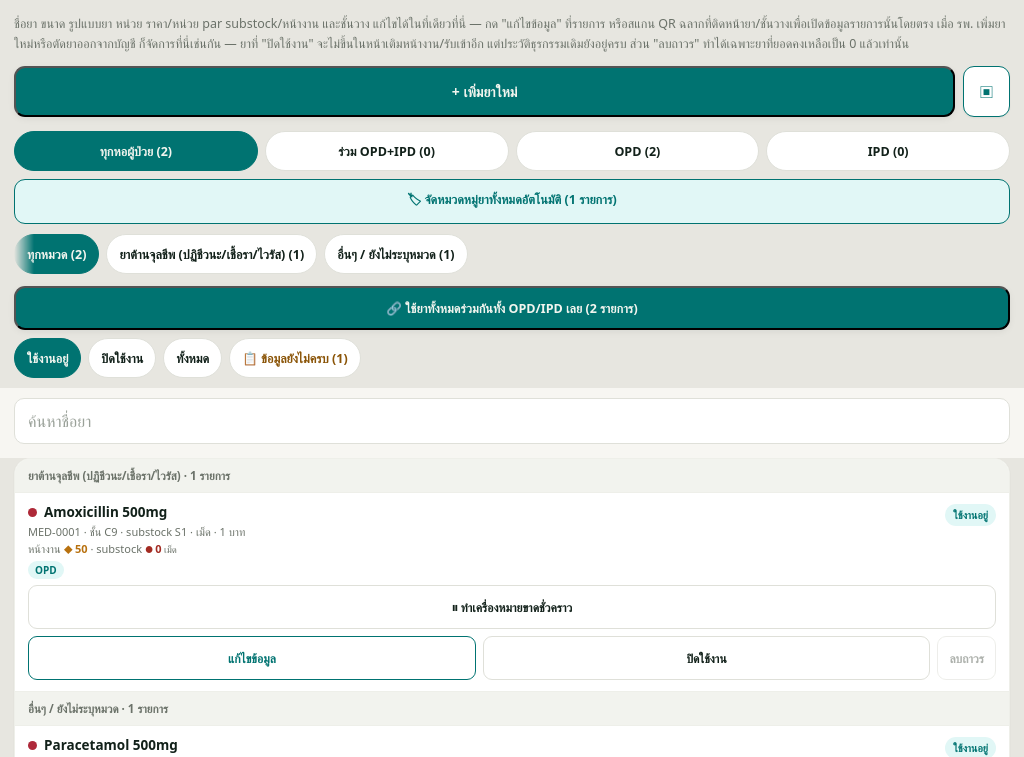
Scenario: setMedBin — bin-collision warning regression › warns (but still saves) when the quick-fix row's typed bin code already belongs to another active med
Click the button "📋 ข้อมูลยังไม่ครบ (1)": (295, 358) [229, 338, 361, 378]
(page scrolled)
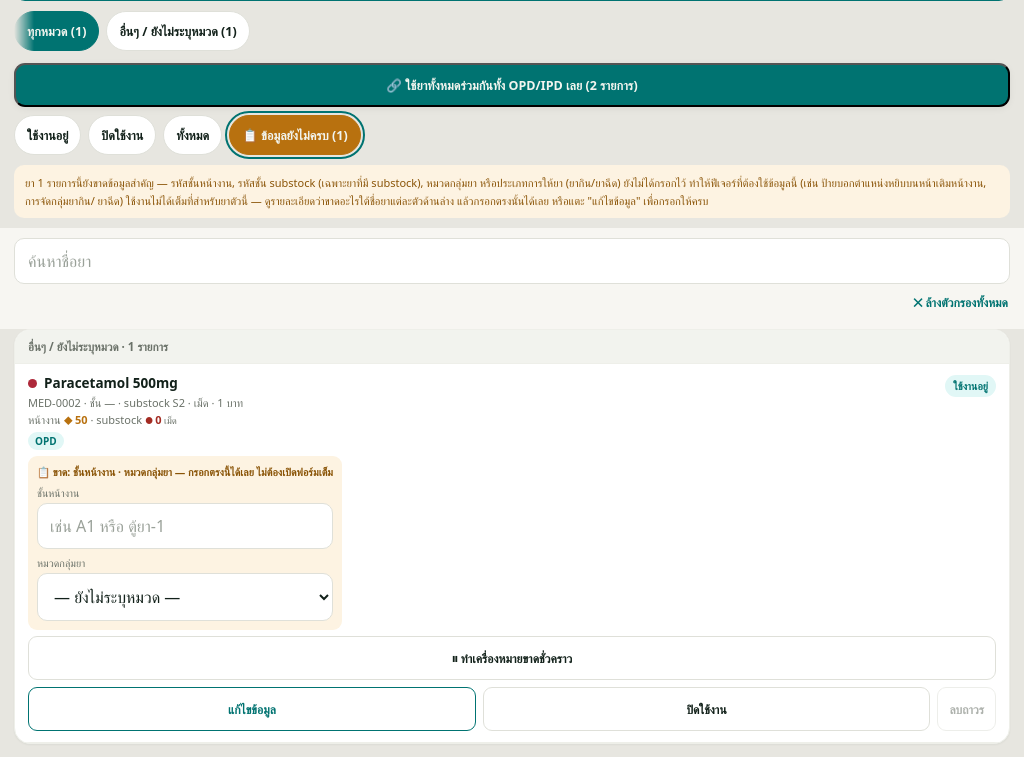
Expected: the text "Paracetamol 500mg" is shown, [44, 375, 178, 393]
In the field with placeholder "เช่น A1 หรือ ตู้ยา-1": (185, 526) [37, 503, 333, 549], type "C9"
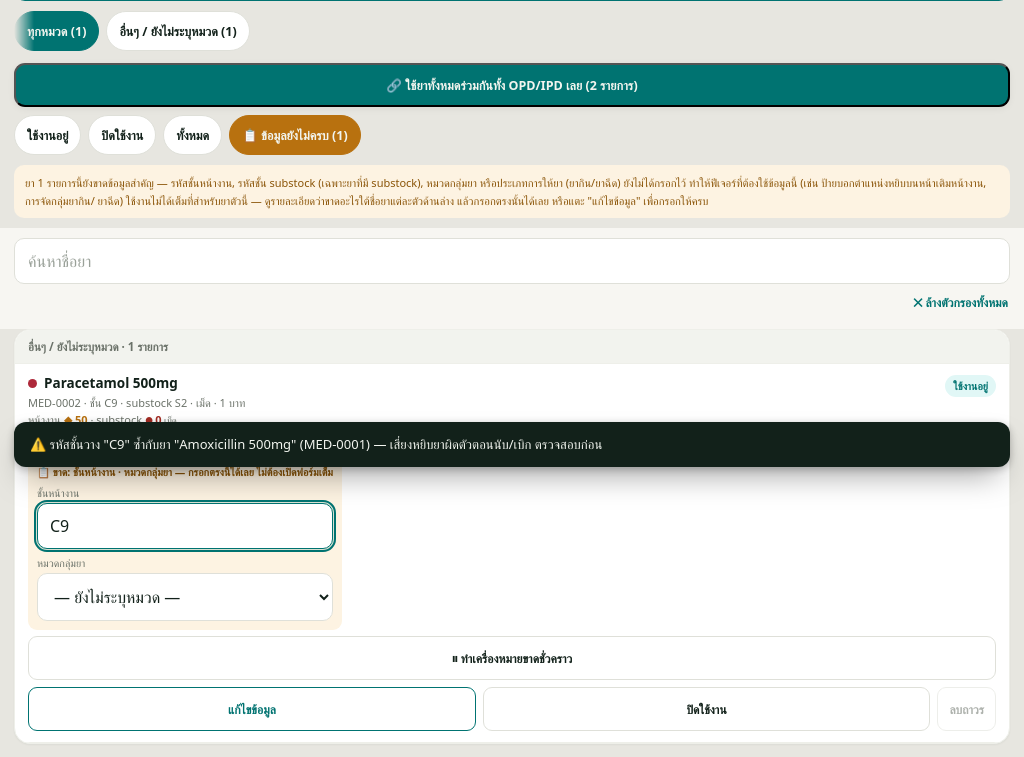
Expected: the text "รหัสชั้นวาง \"C9\" ซ้ำกับยา \"Amoxicillin 500mg\" (MED-0001)" is shown, [30, 435, 602, 453]
